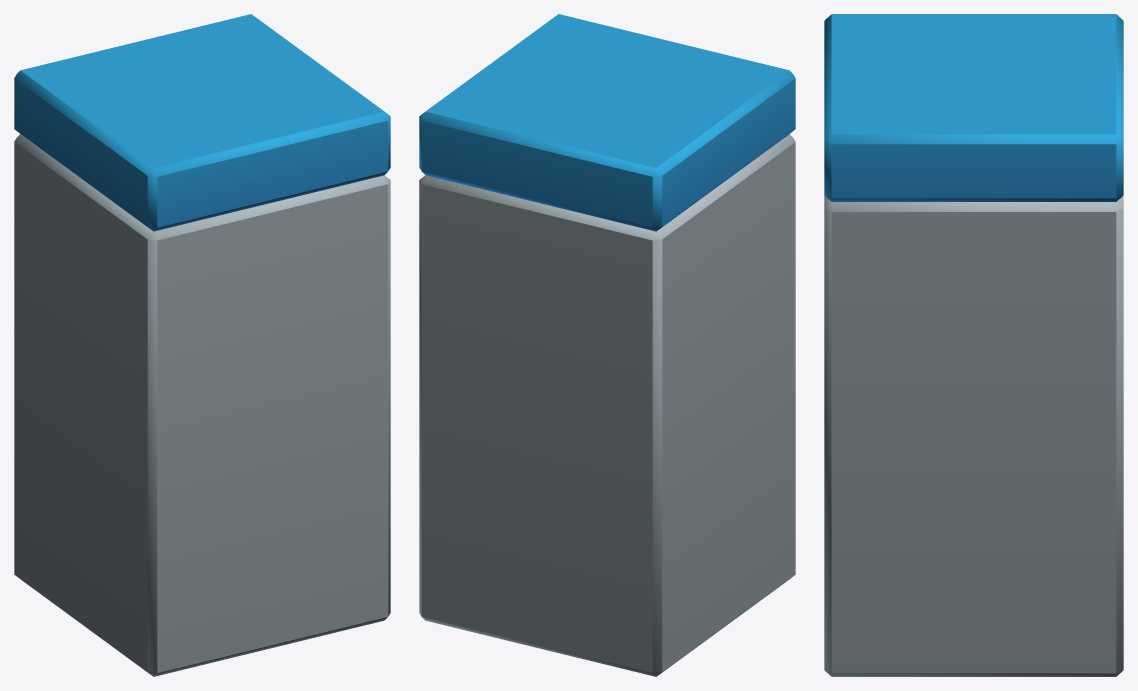
File: platform_2x2x4_blue.glb
3 views of the same model, side by side, from view 1: azimuth 30°, elevation 25°; view 2: azimuth 150°, elevation 25°; view 3: azimuth 270°, elevation 25° (orthographic). The views are drawn at different scales.
Visible parts, largest first — view 1: platform_2x2x4_blue; view 2: platform_2x2x4_blue; view 3: platform_2x2x4_blue.
Boxes of the visible parts, x1,y1,x2,y2 form: platform_2x2x4_blue: (14,14,390,676); platform_2x2x4_blue: (419,14,795,676); platform_2x2x4_blue: (824,14,1123,676).
Bounding box in the file's own units: 2 × 4 × 2.
Materials: 1 (1 with a texture image).
